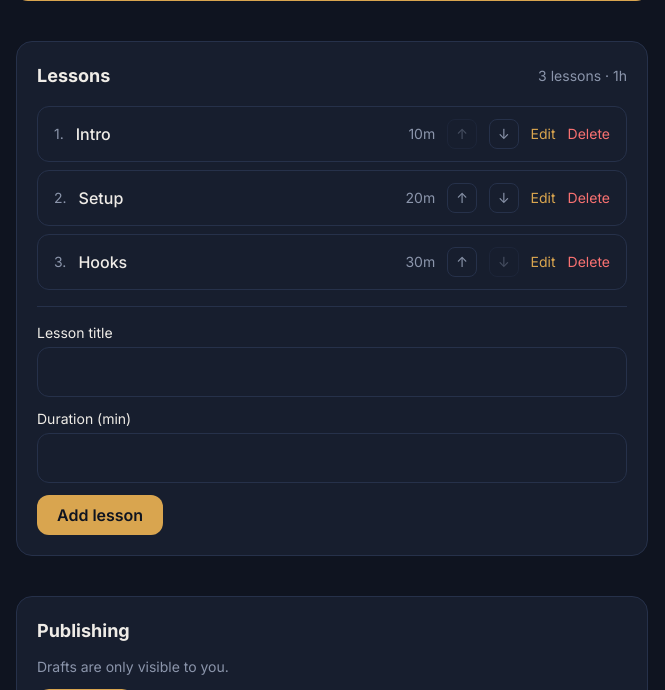
Test: CourseForm — lesson editor › shows the server's error message when a mutation fails
(page scrolled)
Type "Deploy" into the field labelled "Lesson title" at point(332, 372), box x1=37 y1=347 x2=627 y2=397
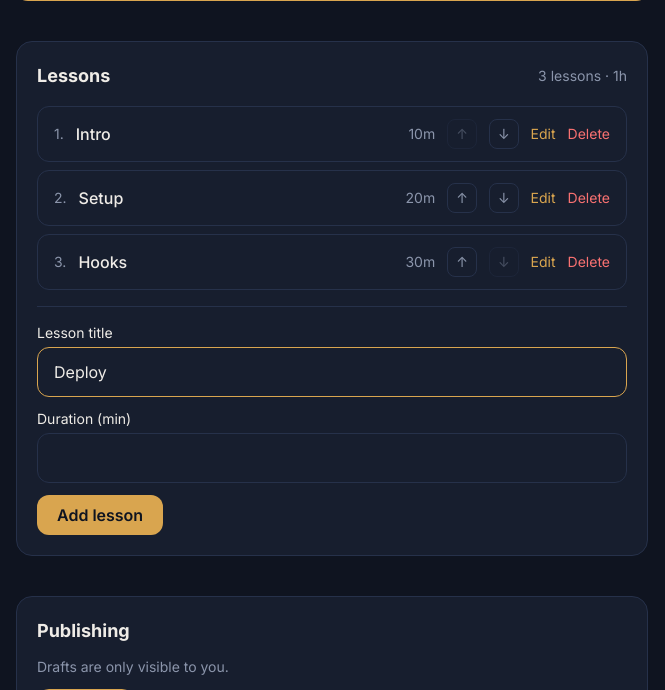
Click the button "Add lesson" at point(100, 515), box x1=37 y1=495 x2=163 y2=535
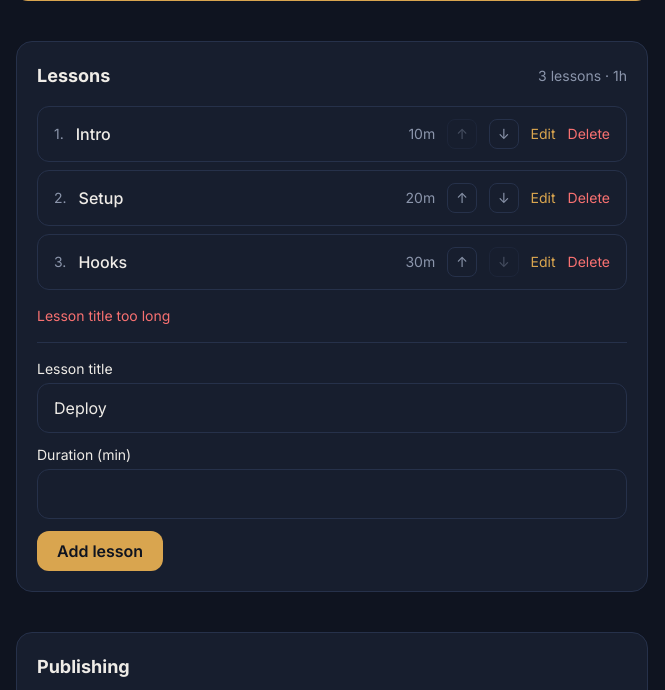
Check: the text "Lesson title too long" is shown, box x1=37 y1=307 x2=170 y2=324
